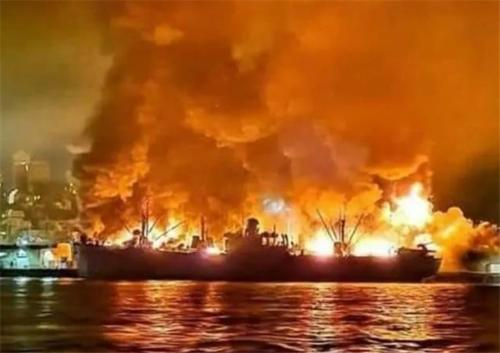fire: (76, 204, 454, 275)
smoke: (93, 17, 487, 179)
